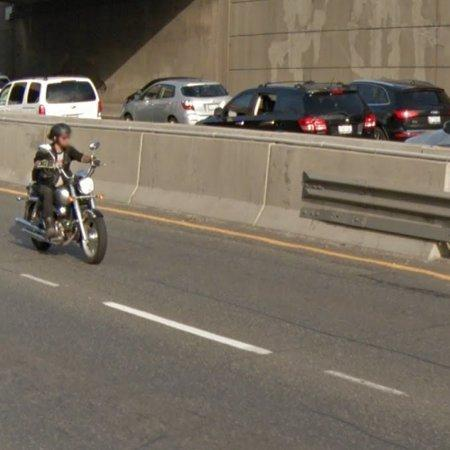motorcycles: (16, 142, 107, 264), (24, 201, 43, 220), (54, 207, 70, 217)
